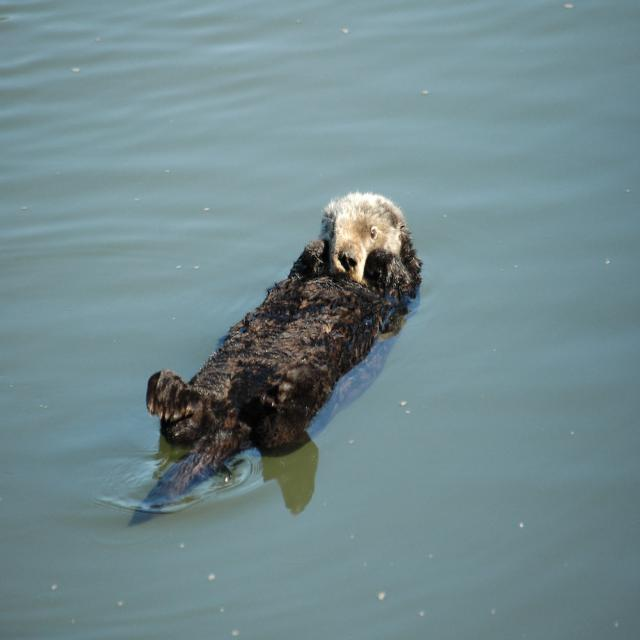otter: (147, 192, 419, 466)
